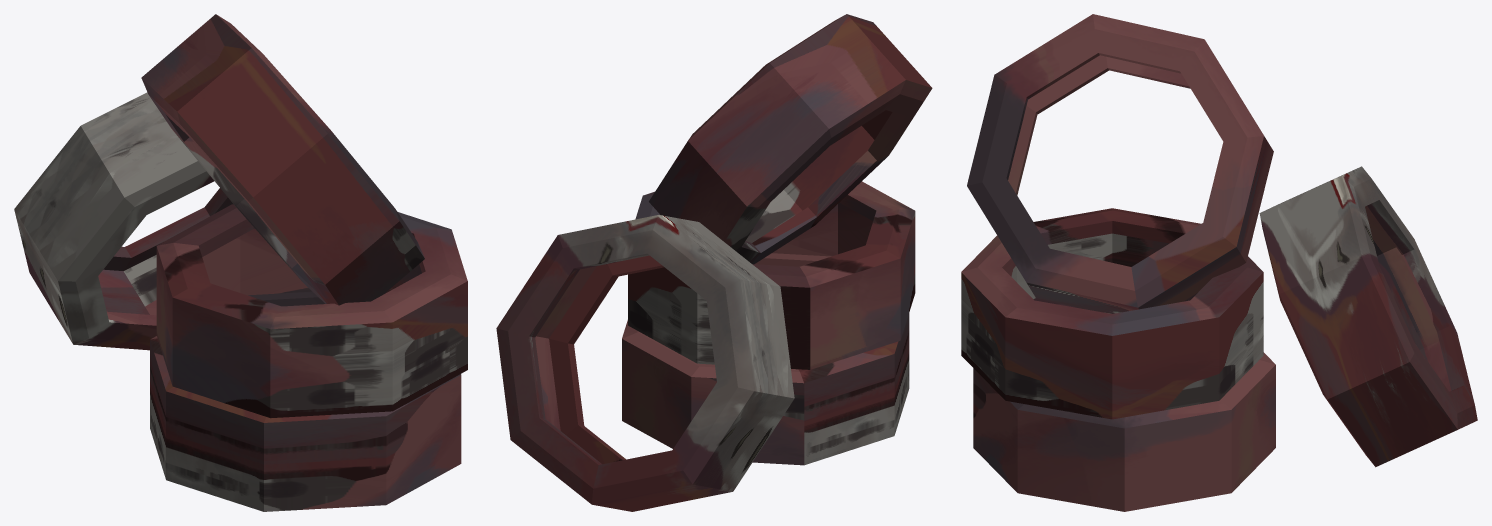
File: tires.fbx
3 renders of one model, left to right at view 1: azimuth 30°, elevation 25°; view 2: azimuth 150°, elevation 25°; view 3: azimuth 270°, elevation 25°, orthographic. The views are drawn at different scales.
Parts seen in each view (by area): view 1: tires; view 2: tires; view 3: tires.
Part boxes in pixels (x1=…): tires: x1=14, y1=14, x2=467, y2=511; tires: x1=496, y1=14, x2=932, y2=511; tires: x1=961, y1=14, x2=1477, y2=511.
Size of the model in its own units: 407 by 610 by 694.
